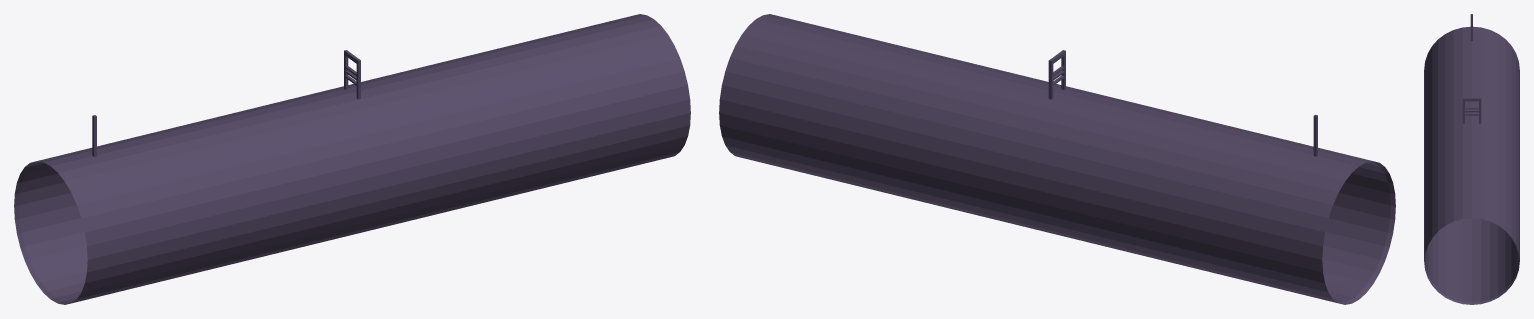
Rendered from racketenwerfer.fbx.
3 views of the same model, side by side, from view 1: azimuth 30°, elevation 25°; view 2: azimuth 150°, elevation 25°; view 3: azimuth 270°, elevation 25° (orthographic). The views are drawn at different scales.
Visible parts, largest first — view 1: Cylinder; view 2: Cylinder; view 3: Cylinder, Cube.006, Cube.001.
Boxes of the visible parts, x1,y1,x2,y2 form: Cylinder: (14,14,690,304); Cylinder: (719,14,1395,304); Cylinder: (1424,26,1519,304); Cube.006: (1470,14,1472,40); Cube.001: (1479,97,1481,123).
Bounding box in the file's own units: 203 × 264 × 962.
